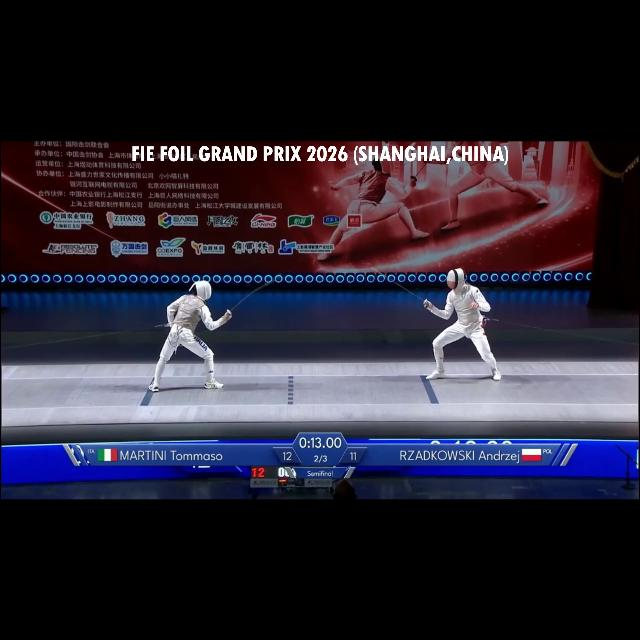blade: (368, 264, 432, 310), (224, 276, 282, 318)
